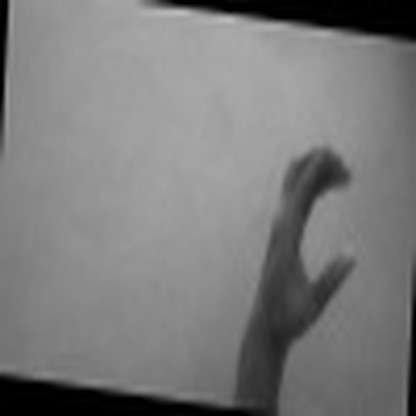c: (259, 138, 357, 341)
